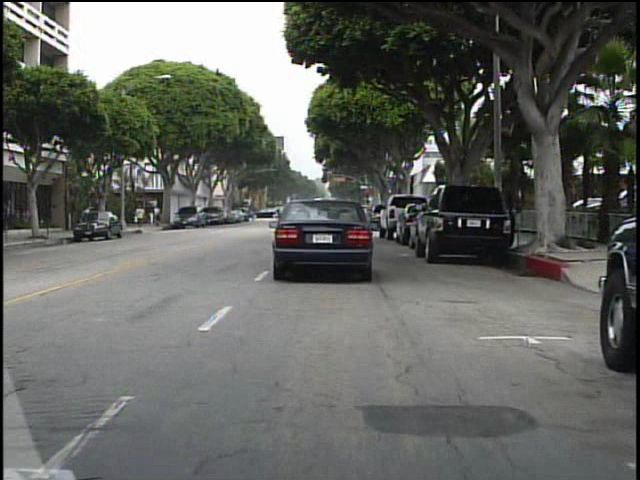person: (134, 202, 149, 232), (154, 202, 166, 228)
